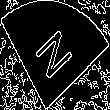N_SW: (31, 24, 79, 86)
